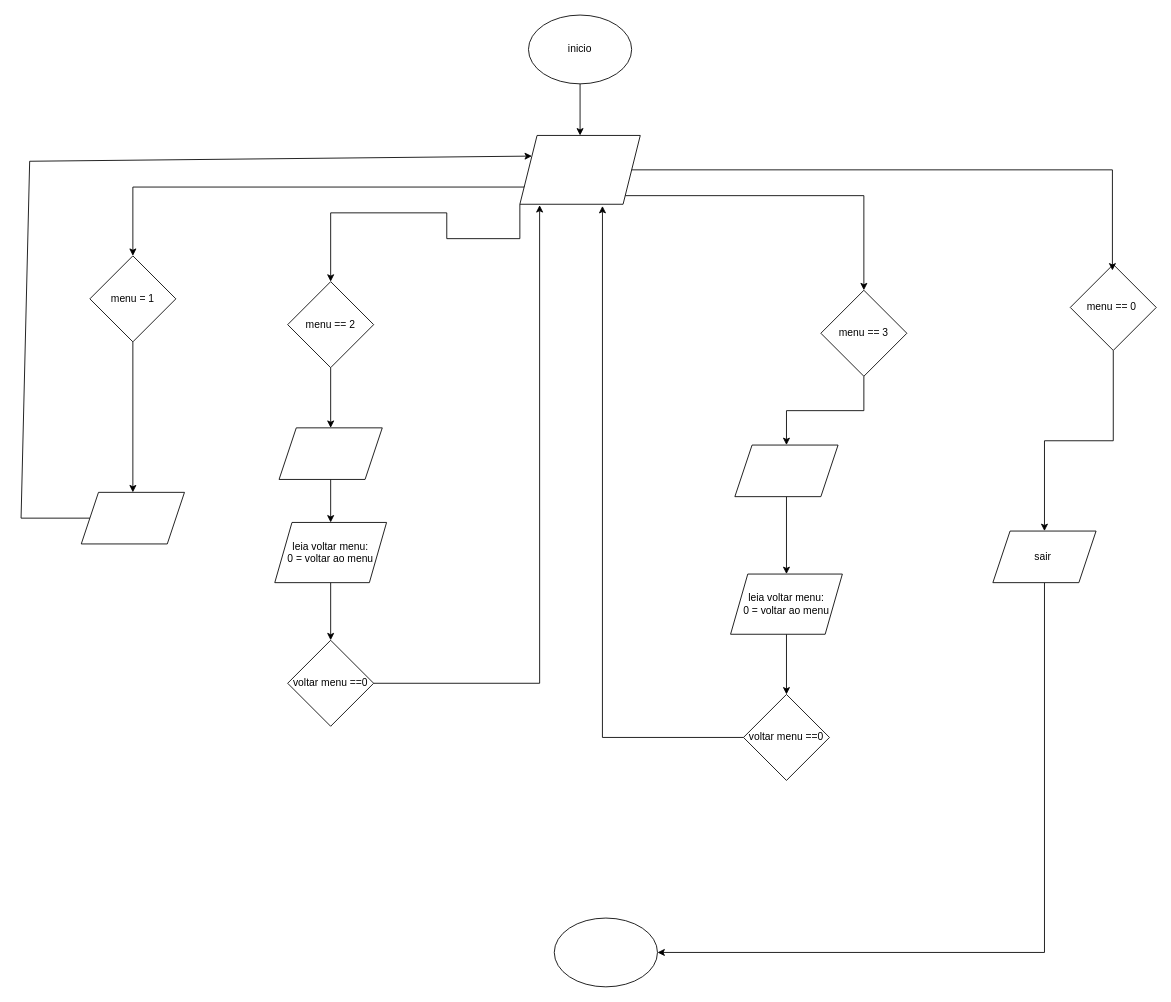
This 1171x1002 diagram has some shape labels left out. Here are the shapes that lost their labels. From the top down, the box of each, then its label:
(519, 135, 640, 204): leia menu: 1 jogar 2 regras 3 ver placar 0 sair
(278, 427, 382, 479): regras
(734, 444, 838, 497): ver placar
(80, 491, 184, 544): jogar
(553, 917, 657, 987): fim
